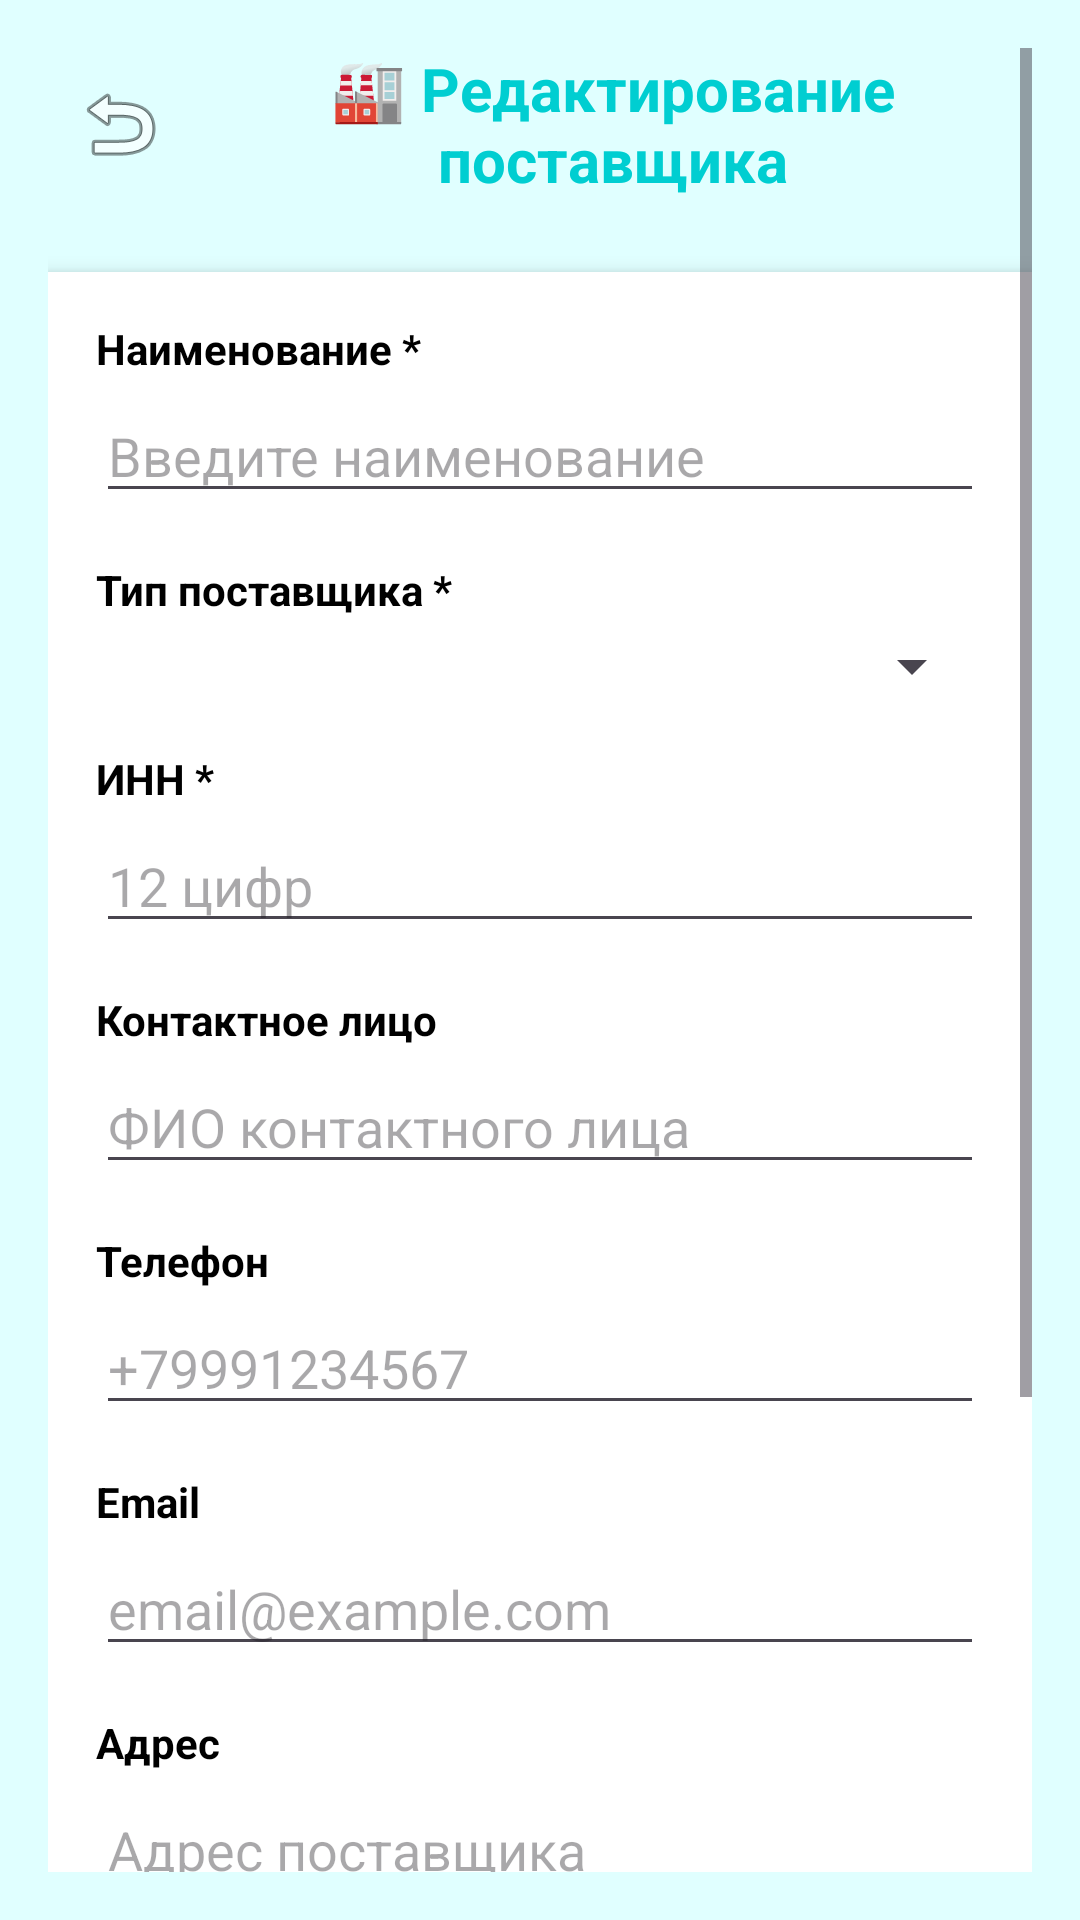

Named icons in this screenshot (1080px×1920px) and their centers, (x,y):
Назад: (121,124)
